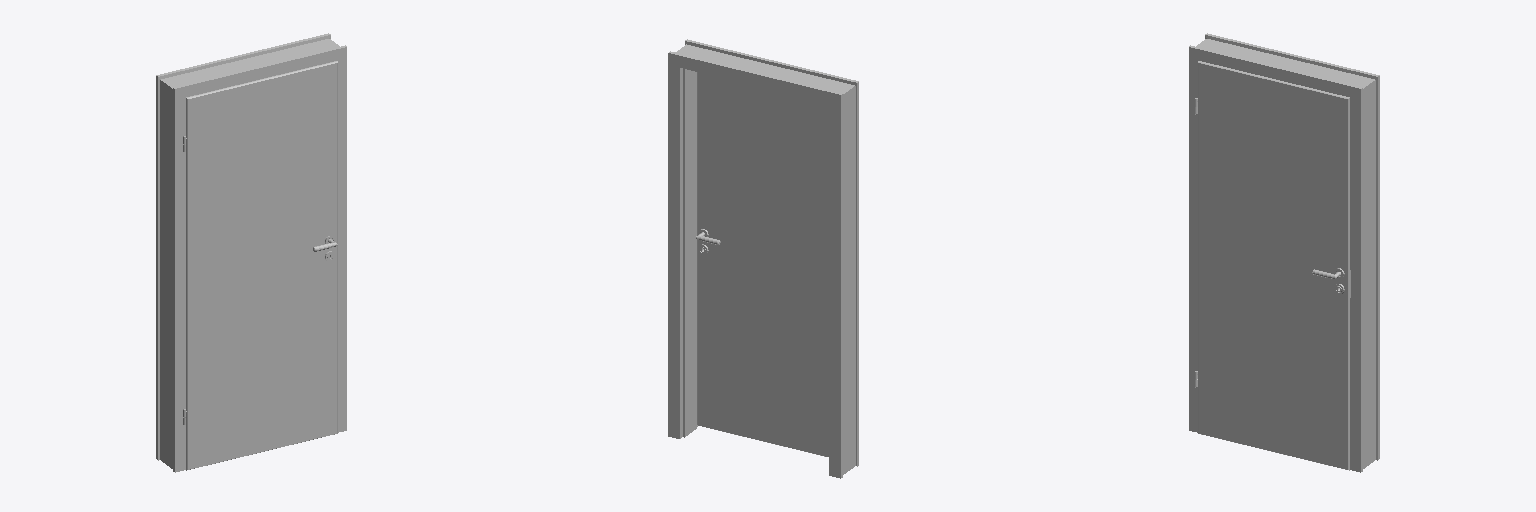
The model's file is meson.obj.
The picture shows the model from 3 angles: view 1: azimuth 30°, elevation 25°; view 2: azimuth 150°, elevation 25°; view 3: azimuth 330°, elevation 25°; orthographic projection.
Size of the model in its own units: 0.97 by 2.06 by 0.2606.